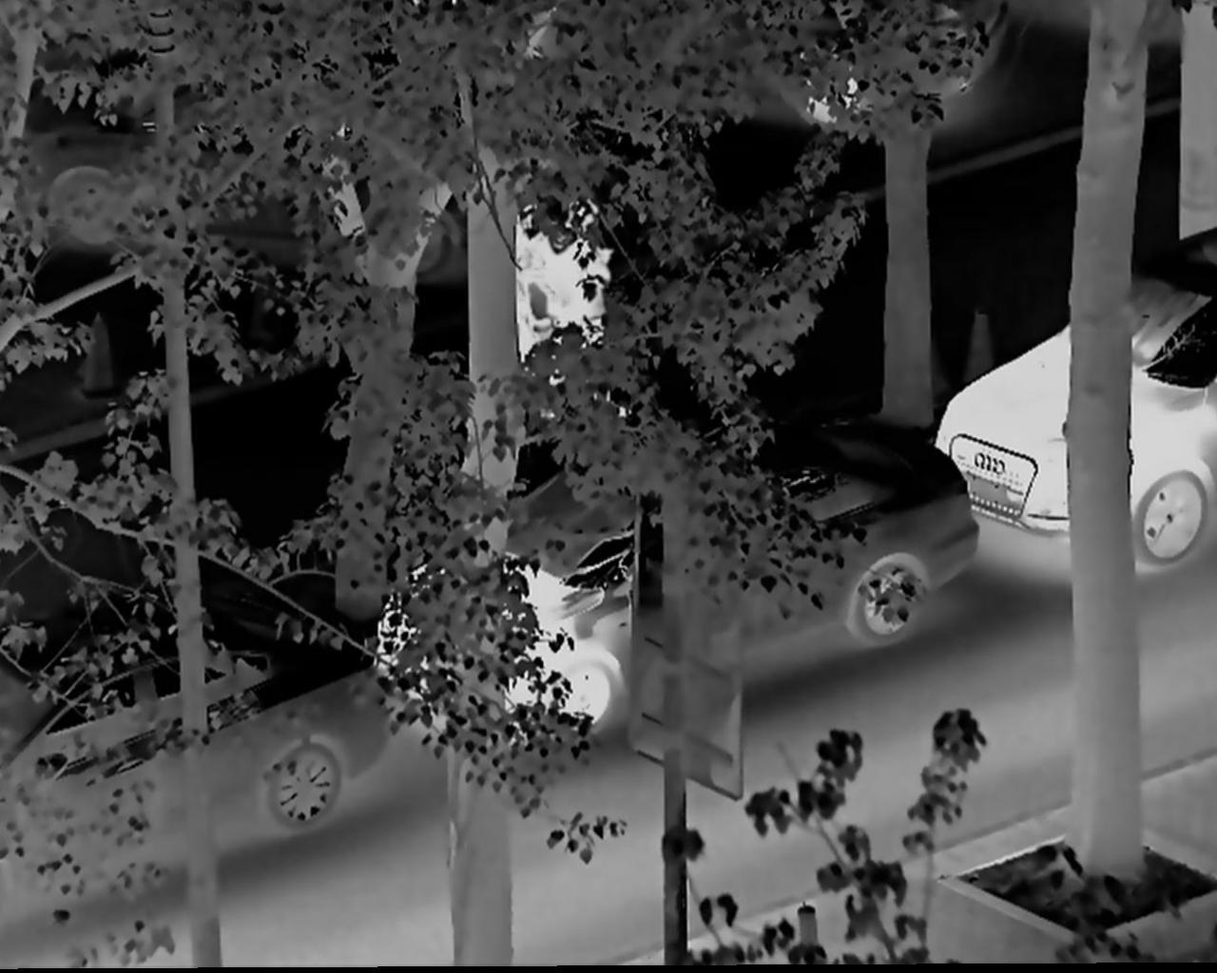person: (537, 195, 616, 381), (499, 201, 551, 391)
